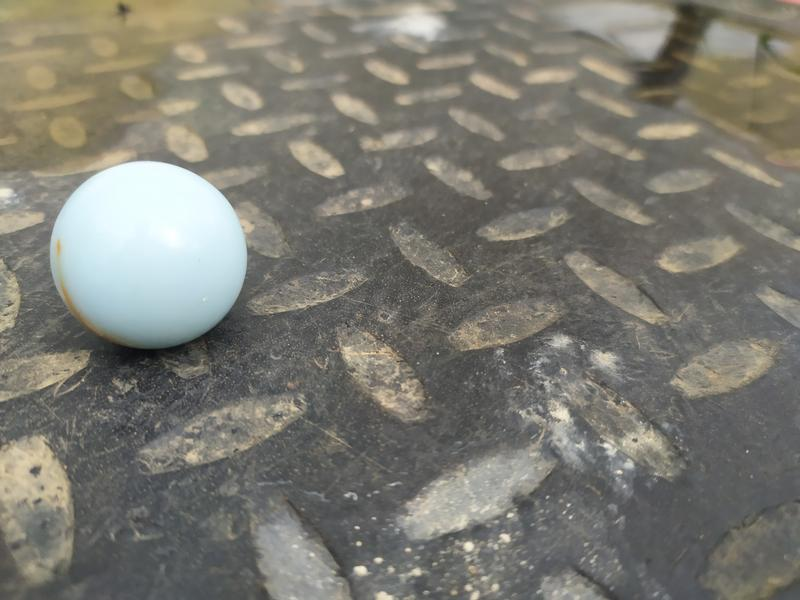Warning: (45, 155, 253, 356)
